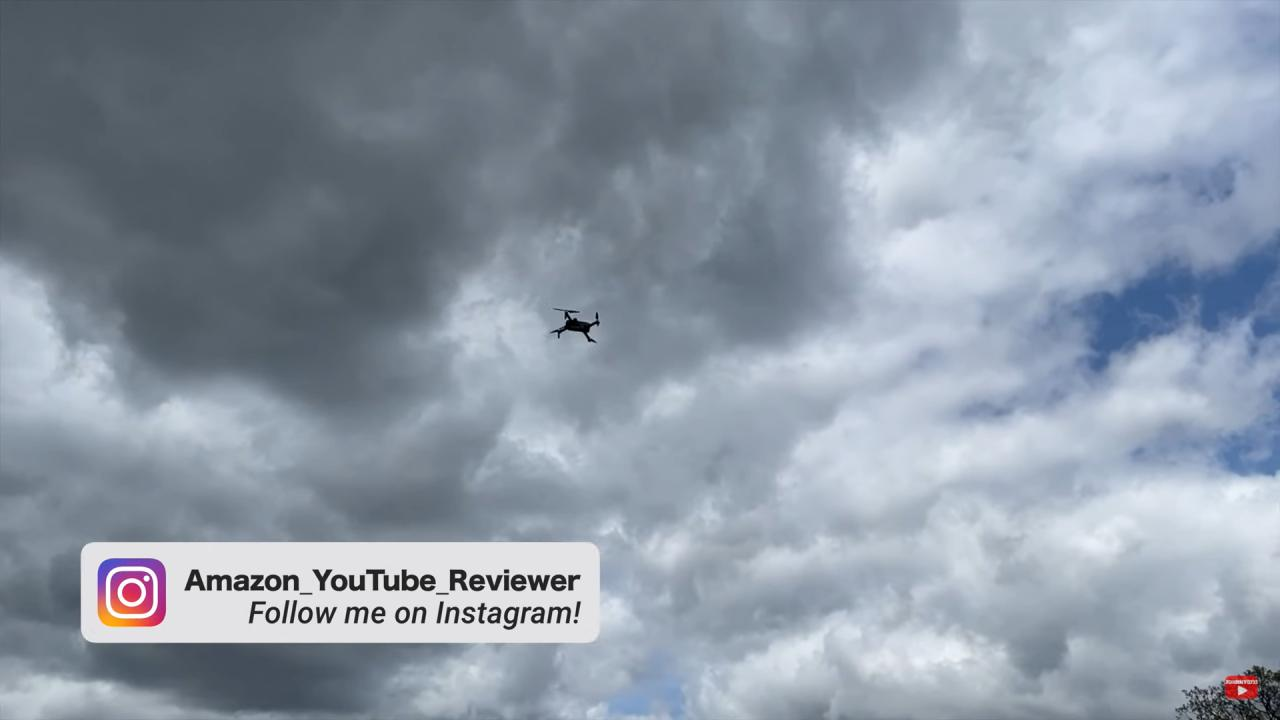Drone: (537, 300, 618, 351)
